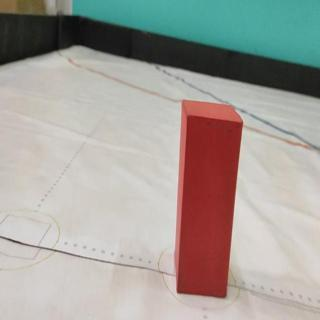redbox: (175, 98, 244, 298)
